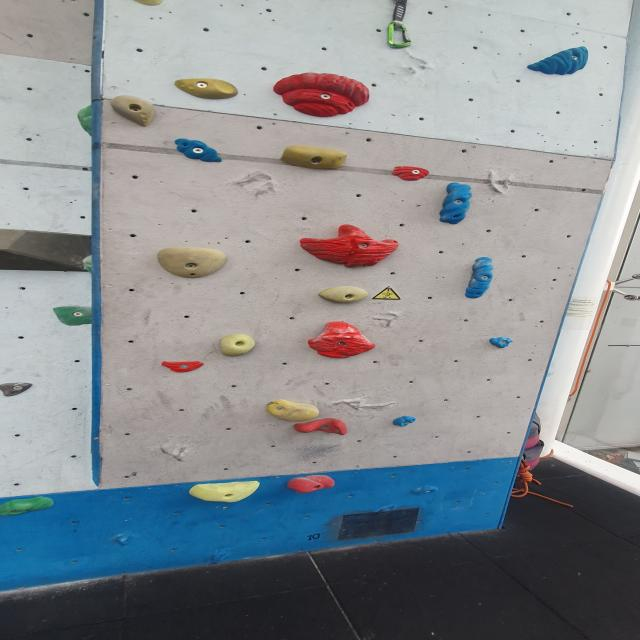Crimp: (524, 48, 593, 78), (188, 481, 264, 505), (171, 79, 241, 102), (171, 137, 228, 165), (1, 495, 58, 517), (160, 360, 206, 373), (0, 382, 37, 398), (390, 167, 431, 181), (392, 416, 419, 427), (488, 339, 513, 350)
Jug: (274, 74, 376, 118), (297, 225, 401, 268), (304, 323, 379, 360), (153, 248, 230, 281), (280, 144, 349, 170), (316, 286, 371, 304), (218, 334, 258, 358)
Pinch: (466, 256, 497, 299), (441, 182, 472, 224), (51, 304, 101, 327)
Sloper: (262, 400, 320, 423), (285, 476, 336, 496)
